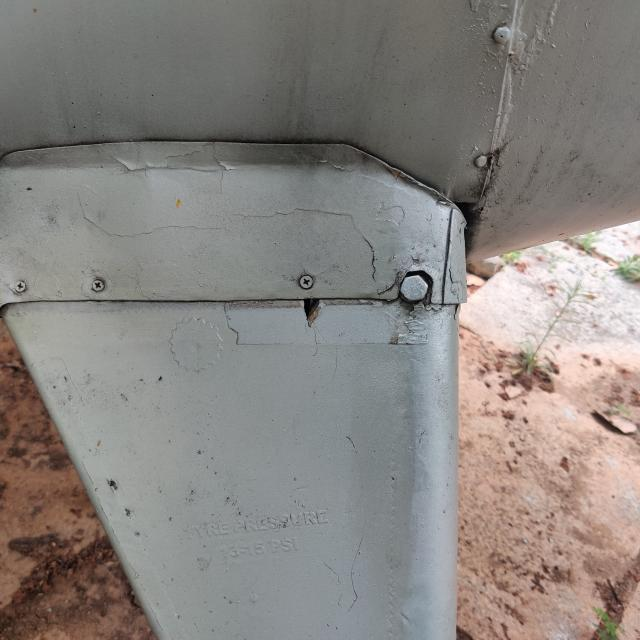crack: (286, 288, 345, 343)
